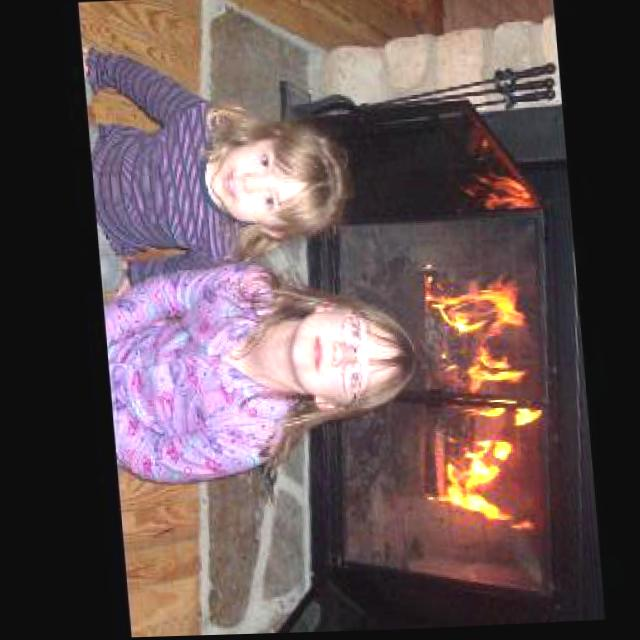Fire: (405, 260, 549, 539), (460, 150, 540, 217)
